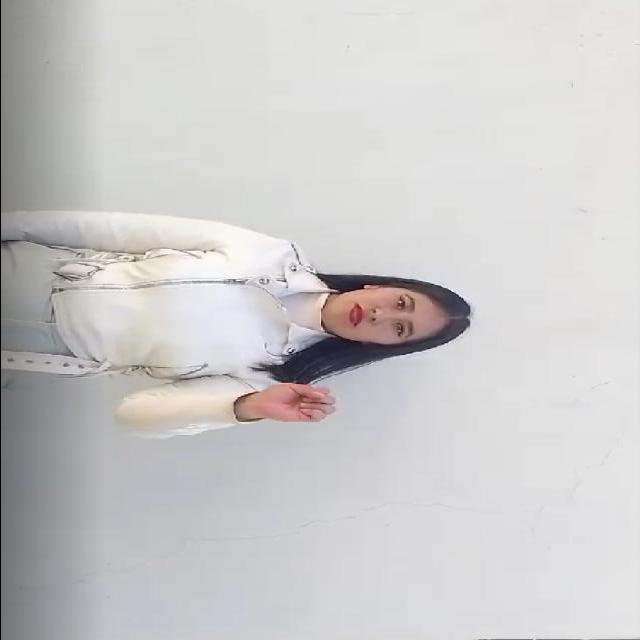S: (237, 377, 346, 427)
